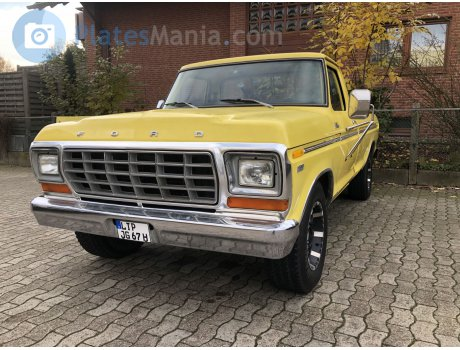License Plates: (119, 220, 147, 239)
